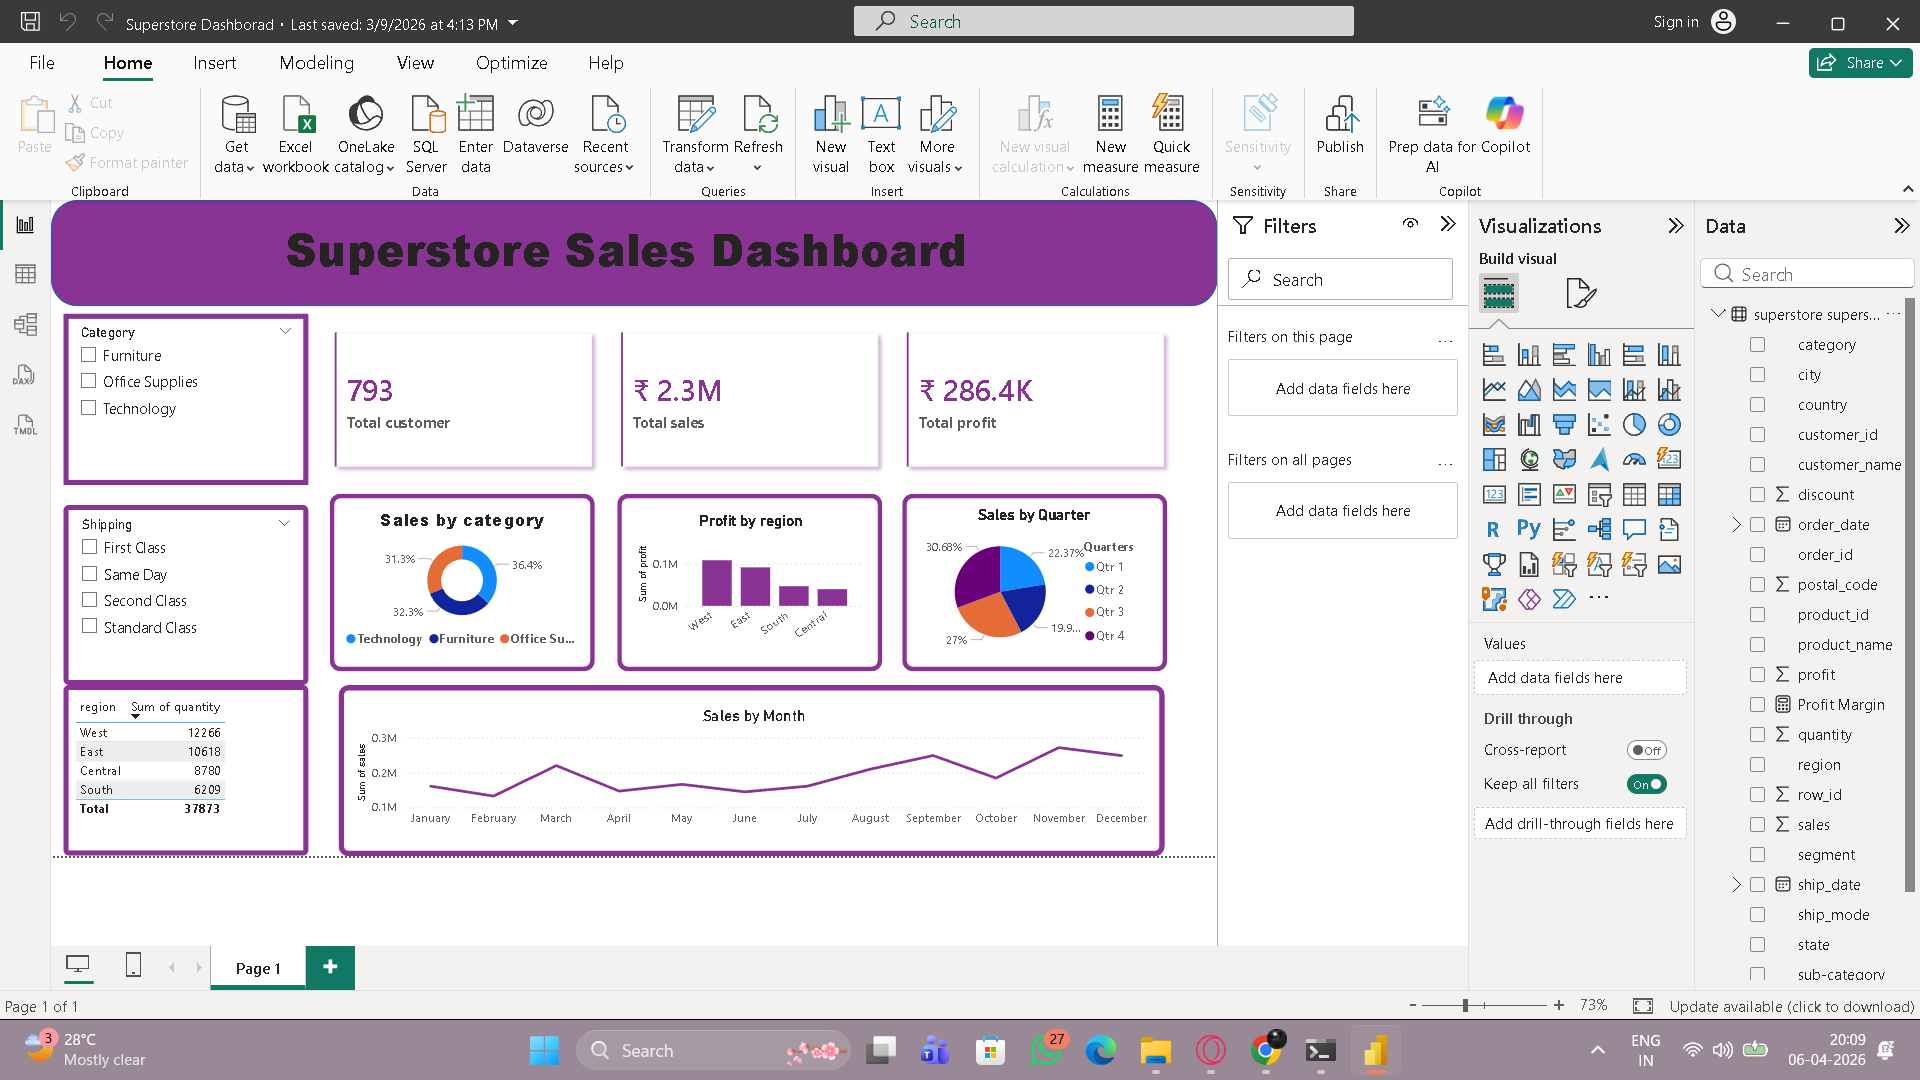

Layout of this report page (visuals, bound fields, positions):
{"tool":"powerbi","page":{"name":"Page 1","canvas":[1280,720],"ordinal":0},"visuals":[{"type":"cardVisual","fields":{"Data":["superstore superstore_sales.Total customer","superstore superstore_sales.Total sales","superstore superstore_sales.Total profit"]},"box":[282.7,116.6,968.8,205.8],"z":0},{"type":"shape","box":[0,0,1280.3,116.6],"z":1},{"type":"textbox","box":[0,15.1,1280.3,87.8],"z":2},{"type":"shape","box":[306,322.5,290.9,194.9],"z":3},{"type":"donutChart","title":"Sales by category","fields":{"Category":["superstore superstore_sales.category"],"Y":["Sum(superstore superstore_sales.sales)"]},"box":[318.4,337.6,266.2,163.3],"z":4},{"type":"shape","box":[621.6,322.5,290.9,194.9],"z":5},{"type":"shape","box":[934.5,322.5,290.9,194.9],"z":6},{"type":"clusteredColumnChart","title":"Profit by region","fields":{"Category":["superstore superstore_sales.region"],"Y":["Sum(superstore superstore_sales.profit)"]},"box":[639.5,341.7,258,155.1],"z":7},{"type":"pieChart","title":"Sales by Quarter","fields":{"Category":["superstore superstore_sales.order_date.Variation.Date Hierarchy.Quarter"],"Y":["Sum(superstore superstore_sales.sales)"]},"box":[945.5,334.8,267.6,170.2],"z":8},{"type":"lineChart","title":"Sales by Month","fields":{"Y":["Sum(superstore superstore_sales.sales)"],"Category":["superstore superstore_sales.order_date.Variation.Date Hierarchy.Month"]},"box":[330.7,555.7,882.3,141.3],"z":9},{"type":"shape","box":[315.6,532.4,907,188],"z":10},{"type":"slicer","fields":{"Values":["superstore superstore_sales.category"]},"box":[13.7,124.9,269,188],"z":11},{"type":"slicer","fields":{"Values":["superstore superstore_sales.ship_mode"]},"box":[13.7,334.8,269,197.6],"z":12},{"type":"tableEx","fields":{"Values":["superstore superstore_sales.region","Sum(superstore superstore_sales.quantity)"]},"box":[14,533,269,187],"z":13}]}

Visuals, with their boxes on the page's 1280x720 design canvas (x1, y1, x2, y2). These are canvas units, not pixel positions in the 1920x1080 screenshot, which may show the page scaled, cropped or inside an application window:
cardVisual - superstore superstore_sales.Total customer x superstore superstore_sales.Total sales: x1=283, y1=117, x2=1252, y2=322
shape: x1=0, y1=0, x2=1280, y2=117
textbox: x1=0, y1=15, x2=1280, y2=103
shape: x1=306, y1=322, x2=597, y2=517
"Sales by category" donutChart: x1=318, y1=338, x2=585, y2=501
shape: x1=622, y1=322, x2=912, y2=517
shape: x1=934, y1=322, x2=1225, y2=517
"Profit by region" clusteredColumnChart: x1=640, y1=342, x2=898, y2=497
"Sales by Quarter" pieChart: x1=946, y1=335, x2=1213, y2=505
"Sales by Month" lineChart: x1=331, y1=556, x2=1213, y2=697
shape: x1=316, y1=532, x2=1223, y2=720
slicer - superstore superstore_sales.category: x1=14, y1=125, x2=283, y2=313
slicer - superstore superstore_sales.ship_mode: x1=14, y1=335, x2=283, y2=532
tableEx - superstore superstore_sales.region x Sum(superstore superstore_sales.quantity): x1=14, y1=533, x2=283, y2=720
